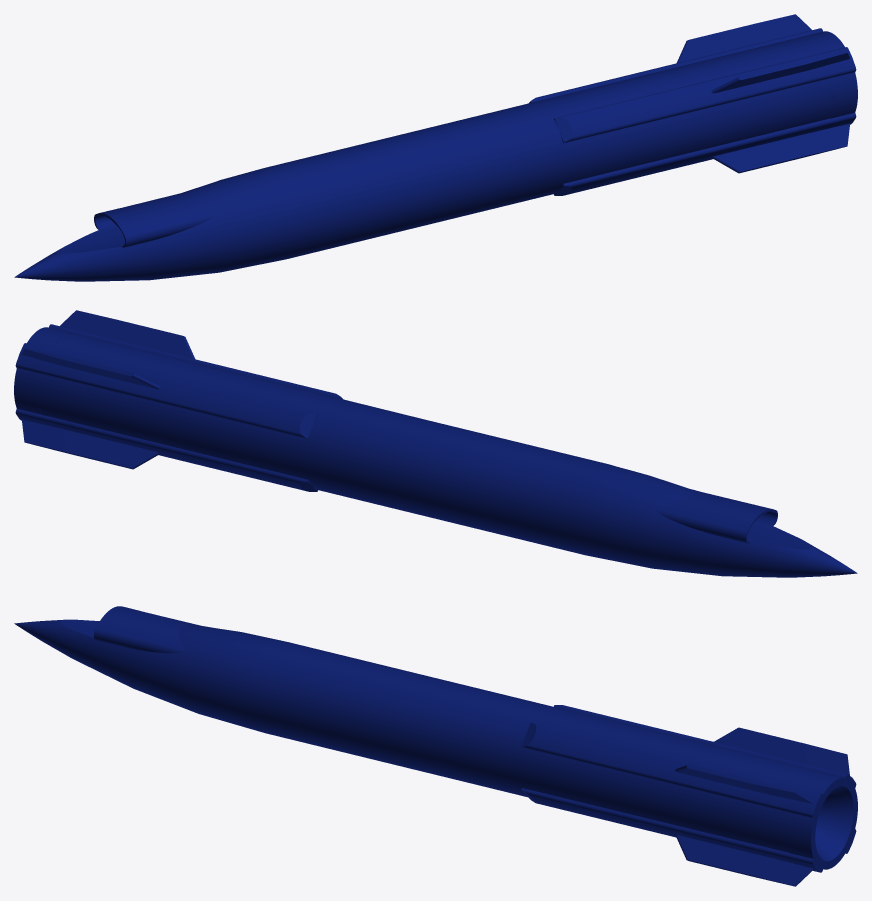
The model's file is Halberd_UpperStage_V2.obj.
3 views of the same model, one above another, from view 1: azimuth 30°, elevation 25°; view 2: azimuth 150°, elevation 25°; view 3: azimuth 330°, elevation 25° (orthographic).
Size of the model in its own units: 2.82 by 0.3173 by 0.3173.
